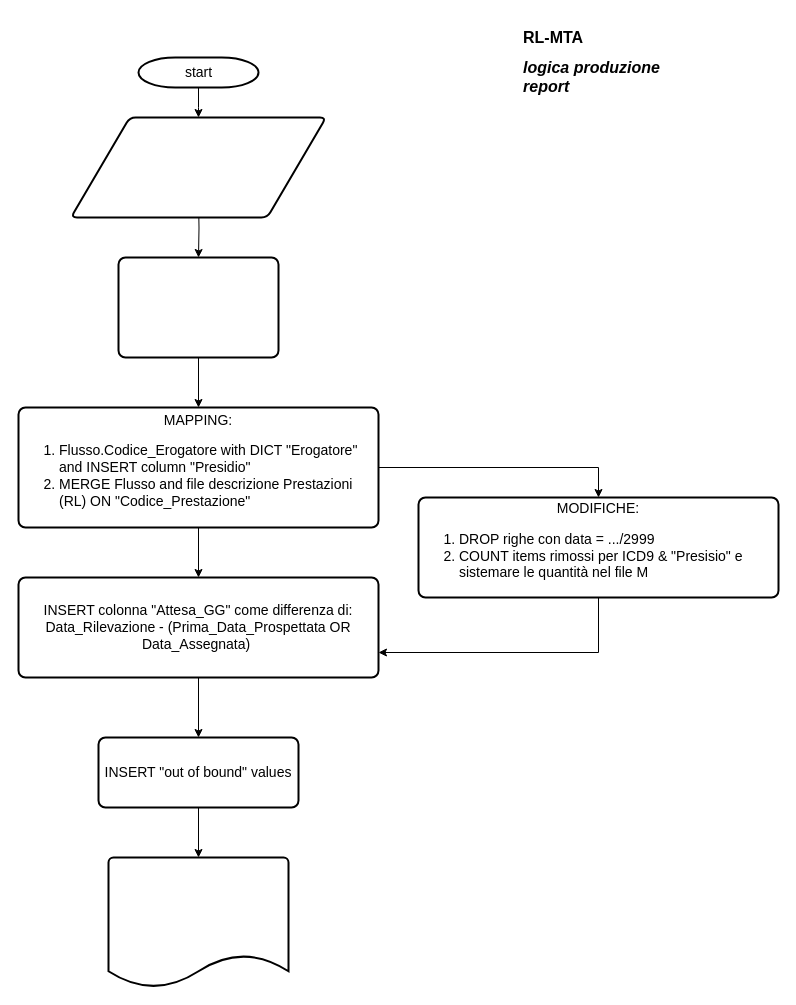
The diagram is 796 pixels wide and 1005 high, and some of its shapes have lost their labels. The centre of each missing label's shape, as x and y in pixels:
JOIN D1 and D2 on "Chiave" Return "Flusso": (x=198, y=307)
load data structure da cup configurator "CAMELIA" file: - M, - D1, - D2: (x=198, y=167)
return: report month year report (I. G.) new files M, D1, D2: (x=198, y=922)
